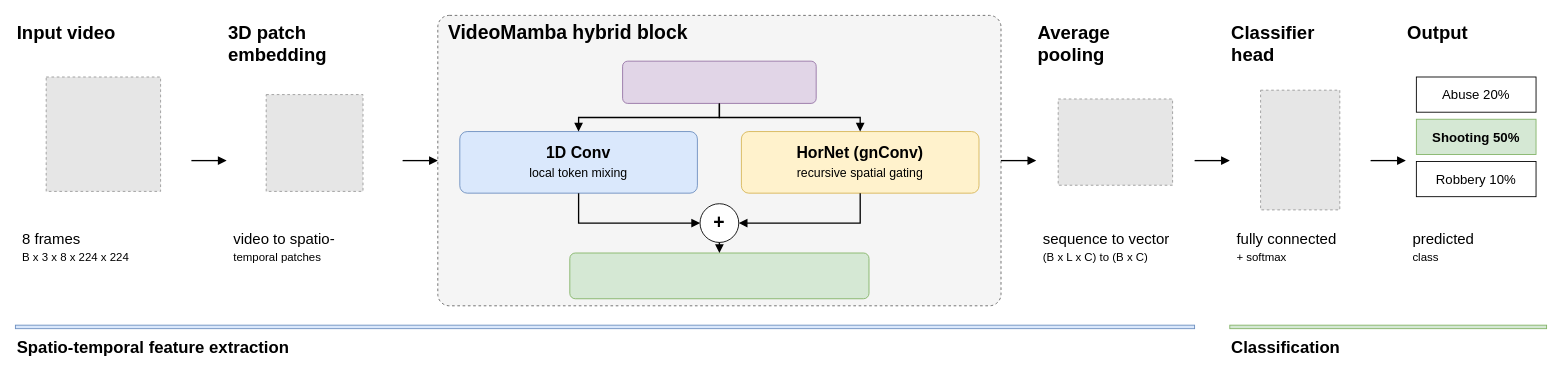
Some shapes in this 1562 by 379 pixel diagram are drawn without their labels. Grey dashed boxes stand in for pictures. Here are the shapes that lost their labels. From the top down, the centre of each, then its label:
pixel 719 81: LayerNorm
pixel 719 275: Mamba SSM scanner (selective scan)
